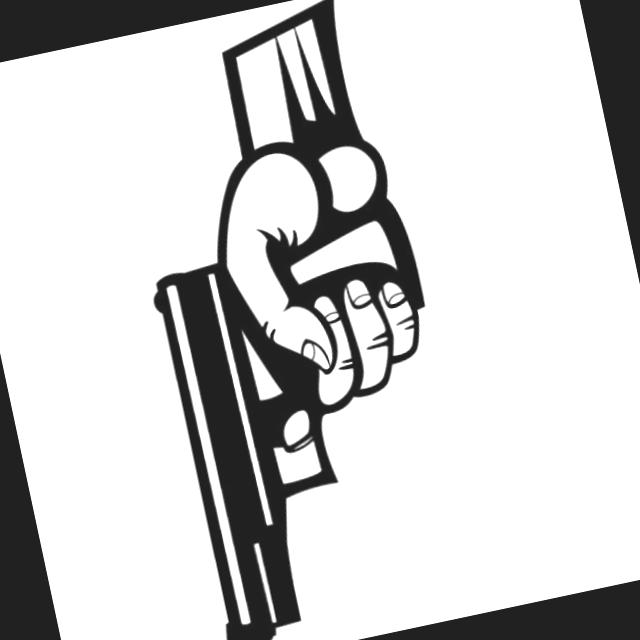handgun: (135, 182, 494, 639)
